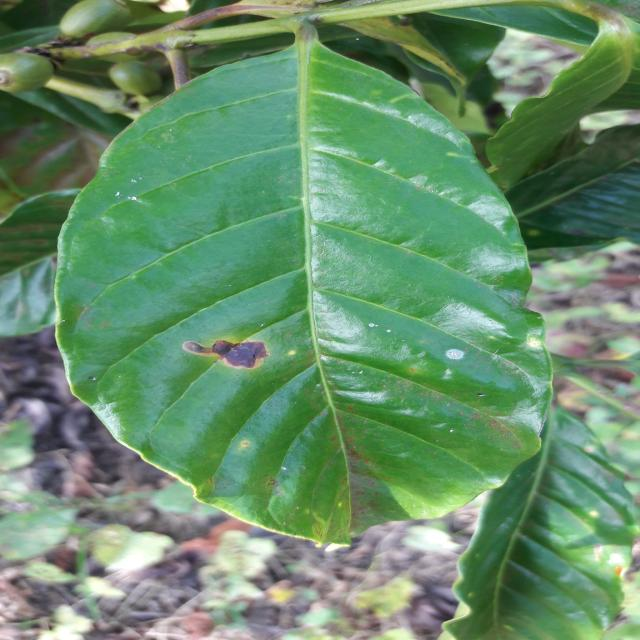Enfermedad-Roya: (54, 43, 553, 548)
